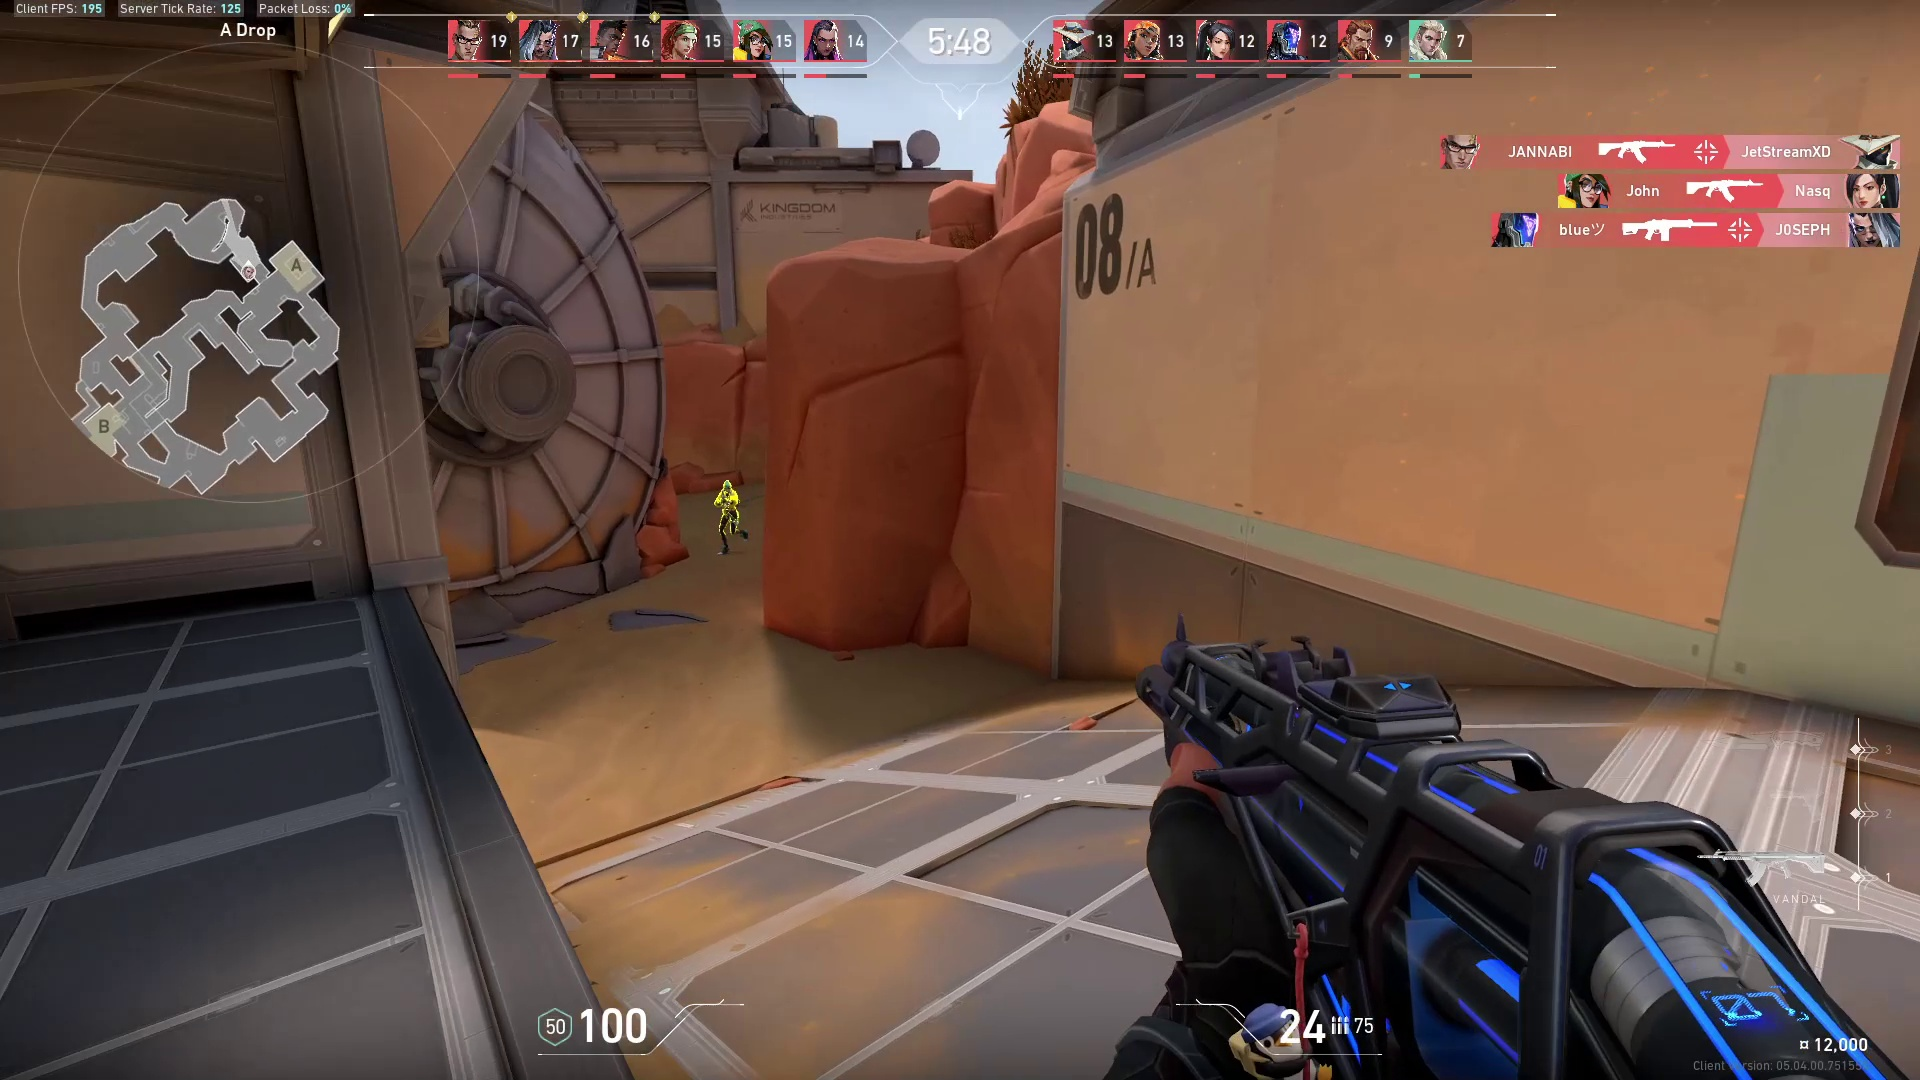enemy_body: (713, 491, 750, 559)
enemy_head: (719, 477, 736, 495)
